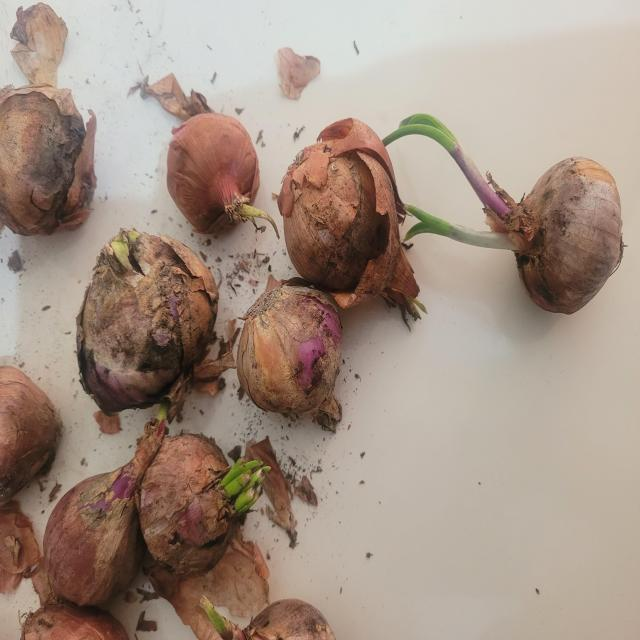rotten: (278, 119, 419, 318), (77, 229, 218, 420), (44, 408, 165, 605), (237, 279, 342, 424), (0, 84, 96, 236), (167, 113, 279, 238), (139, 434, 235, 575)
sprouting: (382, 114, 624, 314)
